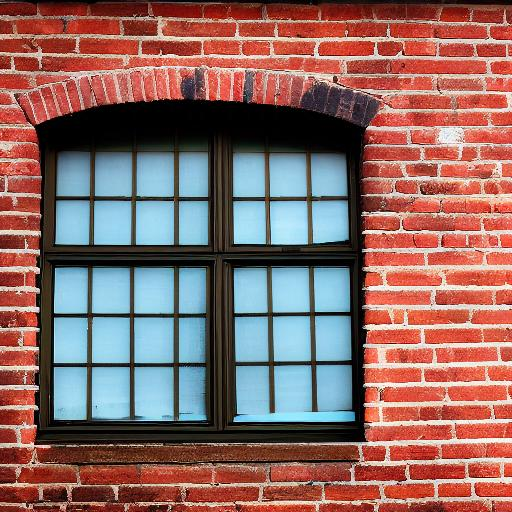Window: (16, 66, 386, 452)
